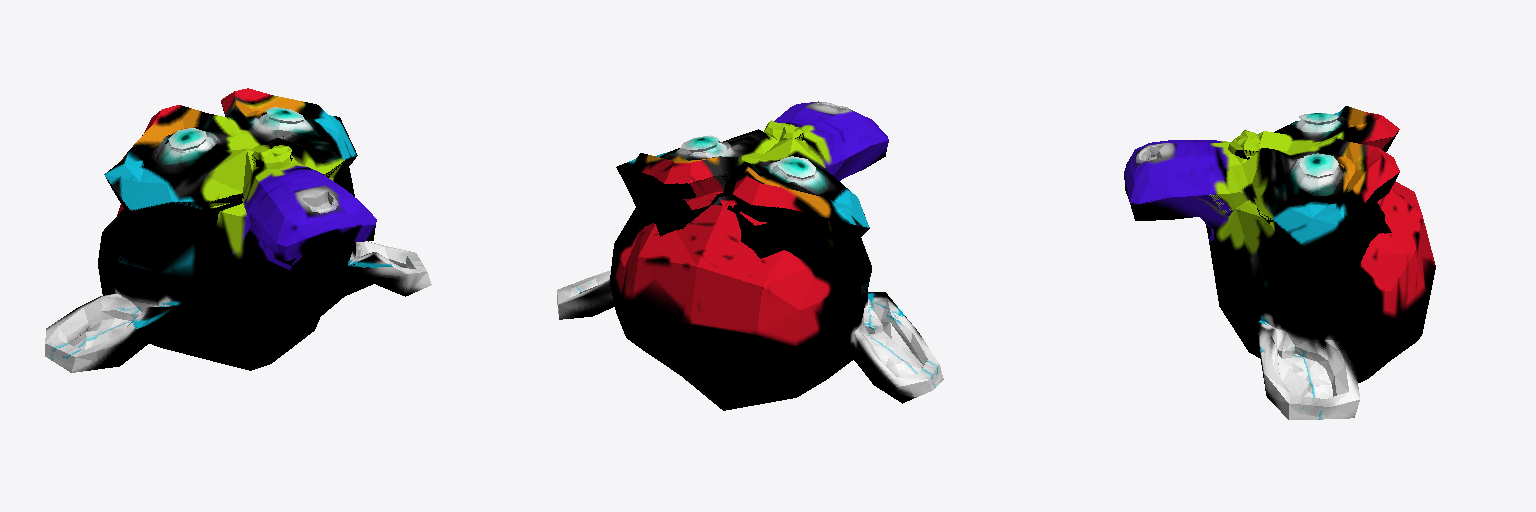
3 renders of one model, left to right at view 1: azimuth 30°, elevation 25°; view 2: azimuth 150°, elevation 25°; view 3: azimuth 270°, elevation 25°, orthographic.
Size of the model in its own units: 2.73 by 1.7 by 1.97.
Materials: 1 (1 with a texture image).